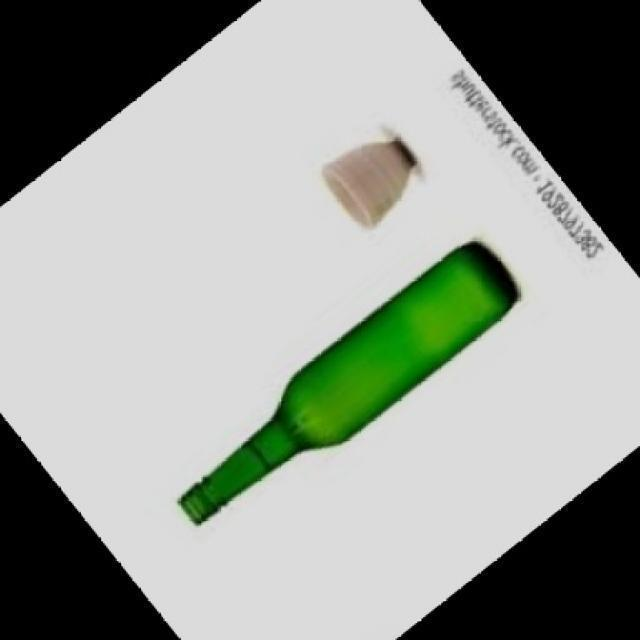BotolKaca: (177, 238, 520, 526)
